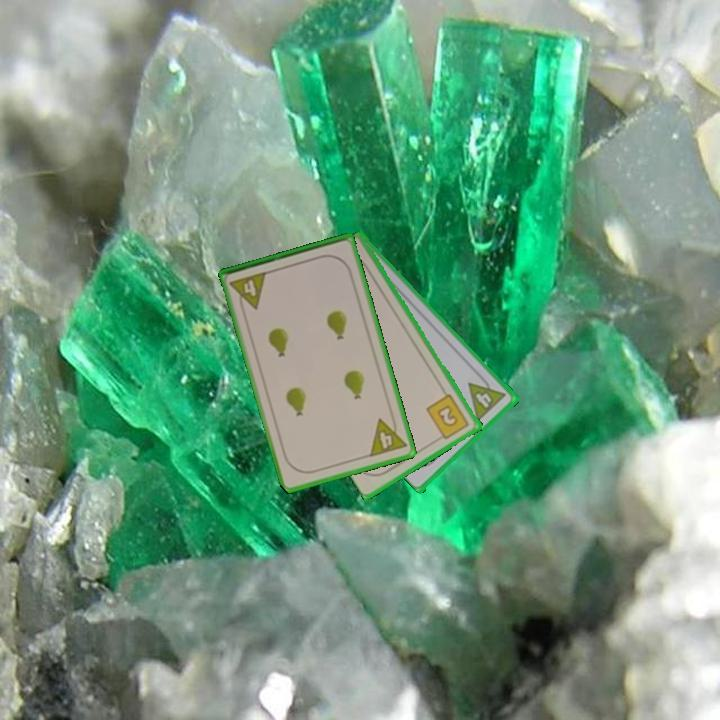2b: (423, 391, 472, 444)
4p: (465, 371, 509, 423), (366, 412, 410, 460), (226, 268, 270, 315)
